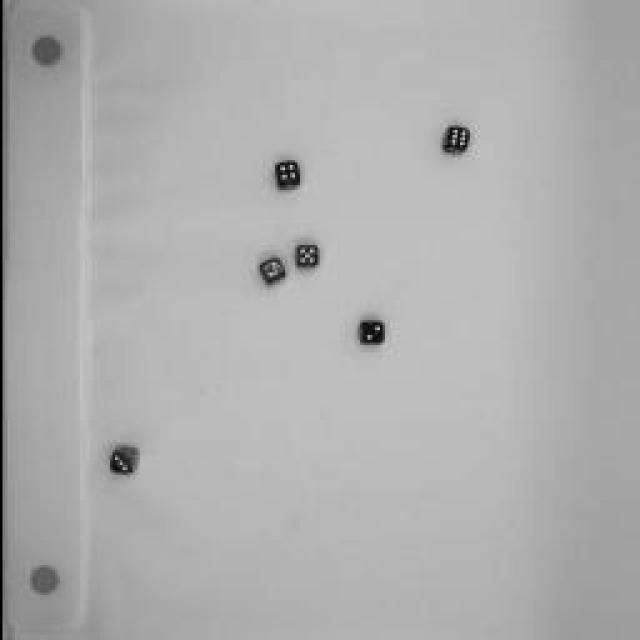dice_2: (252, 255, 288, 295), (352, 316, 386, 352)
dice_3: (104, 442, 141, 480)
dice_4: (265, 155, 305, 195)
dice_5: (288, 237, 322, 275)
dice_6: (435, 122, 473, 162)
